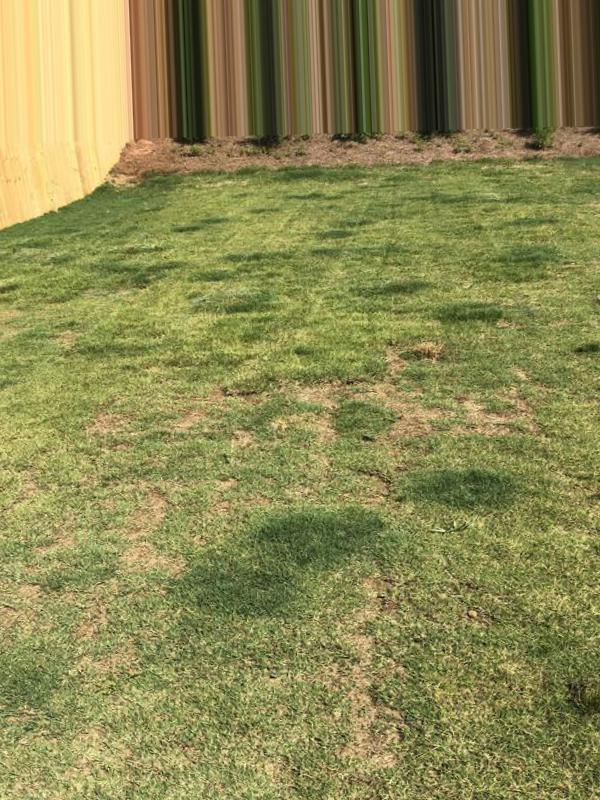patch: (56, 544, 313, 742), (112, 285, 383, 458), (338, 629, 428, 765), (442, 366, 531, 445)
